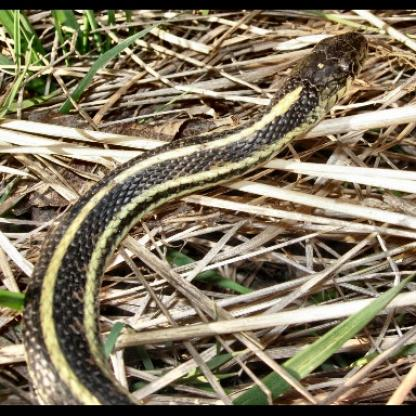Snake: (22, 29, 372, 399)
